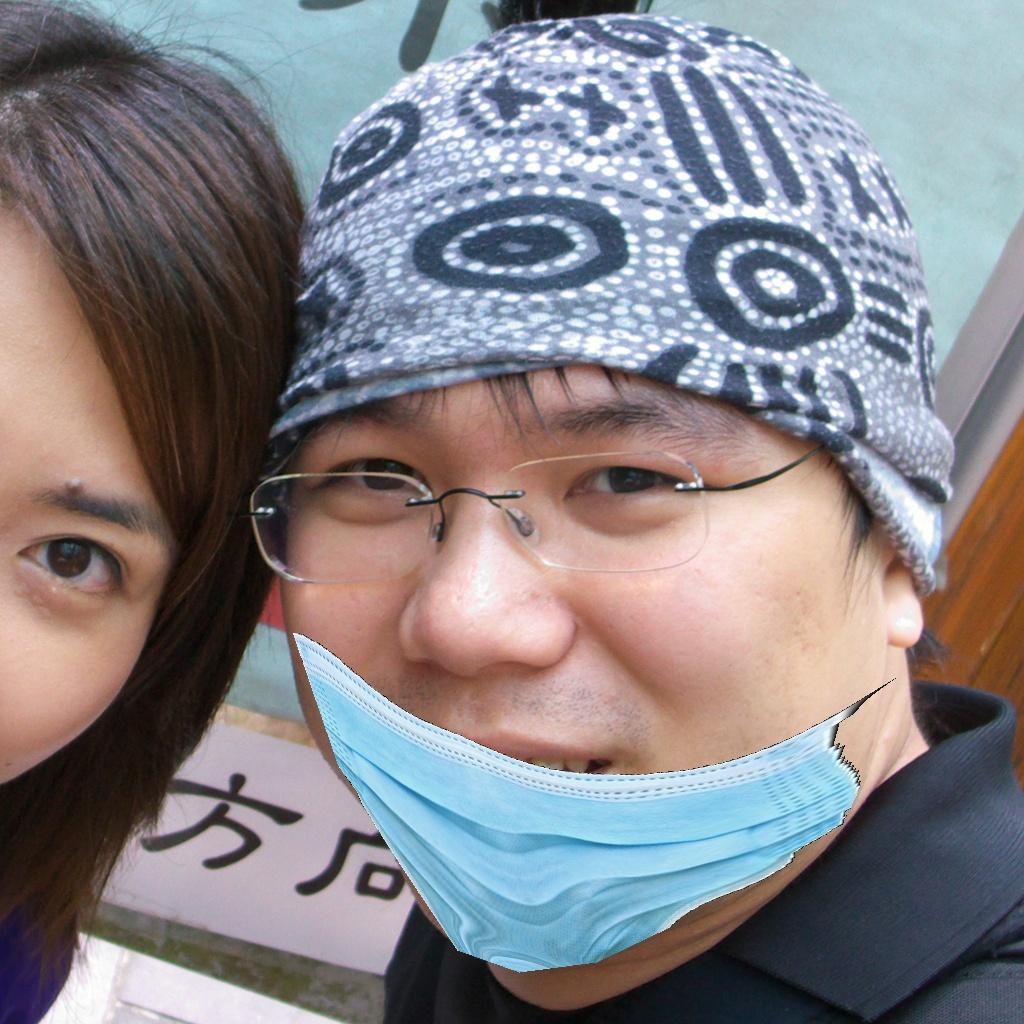Máscara Incorreta: (278, 372, 876, 975)
